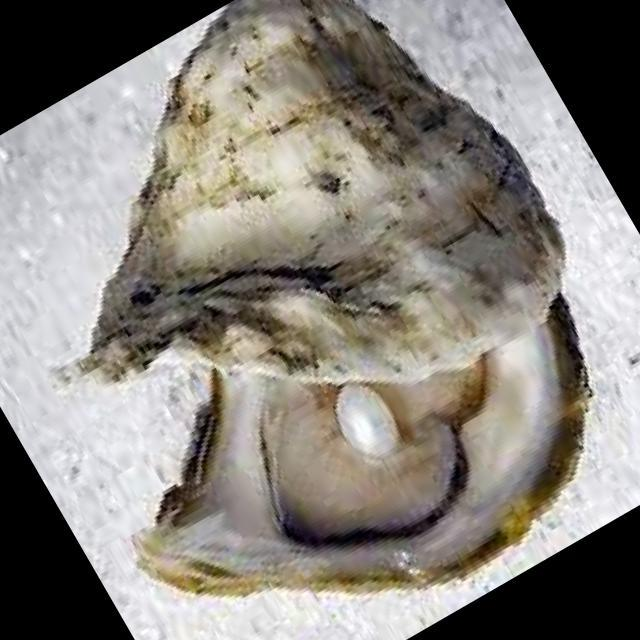Oyster- Indeterminate: (80, 0, 566, 383)
Oyster-Open: (103, 290, 623, 640)
